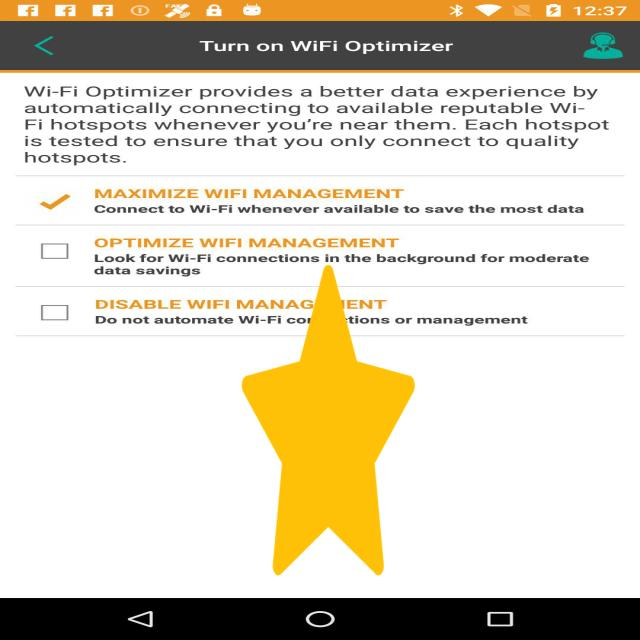forced continuity: (242, 264, 415, 576)
